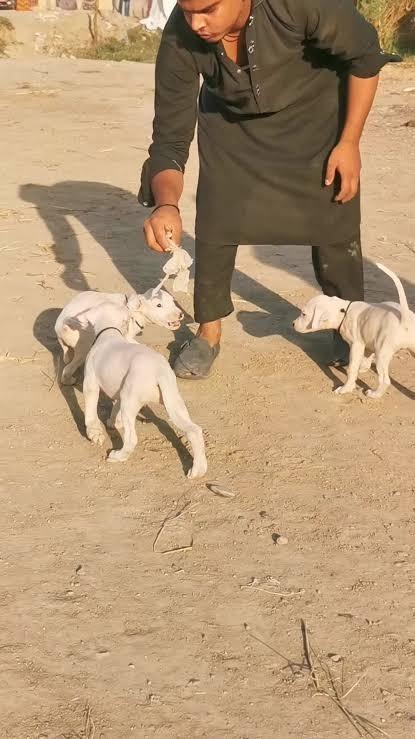non-dog: (137, 0, 387, 380)
puppy-dog: (81, 306, 207, 480), (294, 256, 415, 398), (54, 289, 186, 385)
